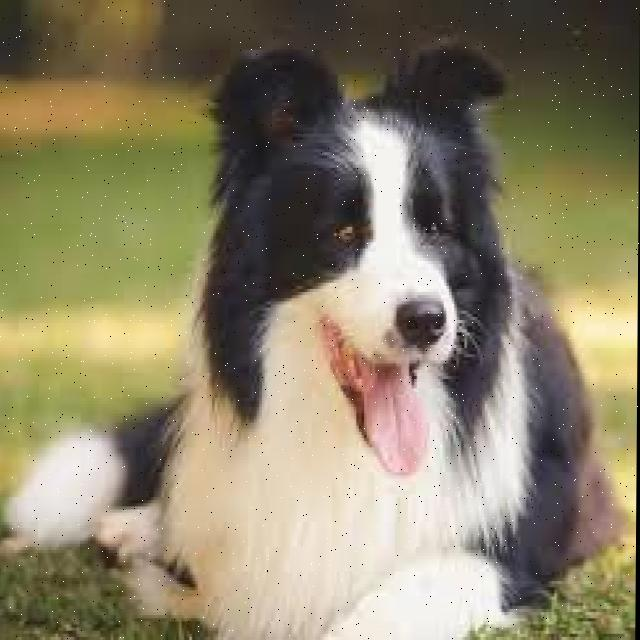BORDER_COLLIE: (0, 28, 624, 640)
